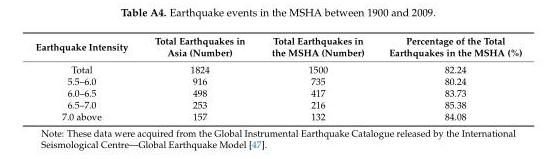table: (34, 34, 521, 121)
table column: (375, 34, 521, 121), (257, 34, 375, 121), (140, 34, 257, 121), (34, 34, 140, 121)
table column header: (34, 34, 521, 60)
table row: (34, 34, 521, 60), (34, 60, 521, 74), (34, 74, 521, 86), (34, 86, 521, 98), (34, 98, 521, 110), (34, 110, 521, 121)
